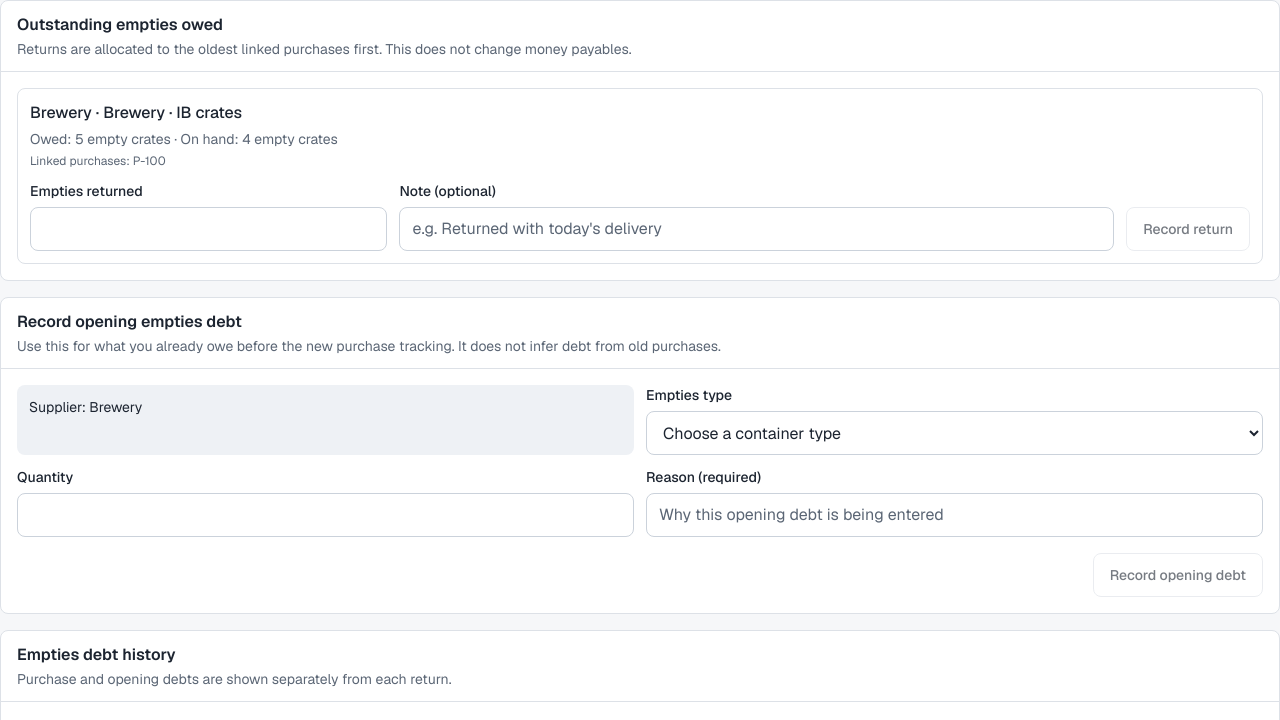
Test: shows a separate supplier empties balance and records a partial return
The width and height of the screenshot is (1280, 720).
Expected: the text "Owed: 5 empty crates · On hand: 4 empty crates" is shown, [30,129,338,149]
In the number field labelled "Empties returned": coordinates (209, 229) [30,207,387,251], type "2"
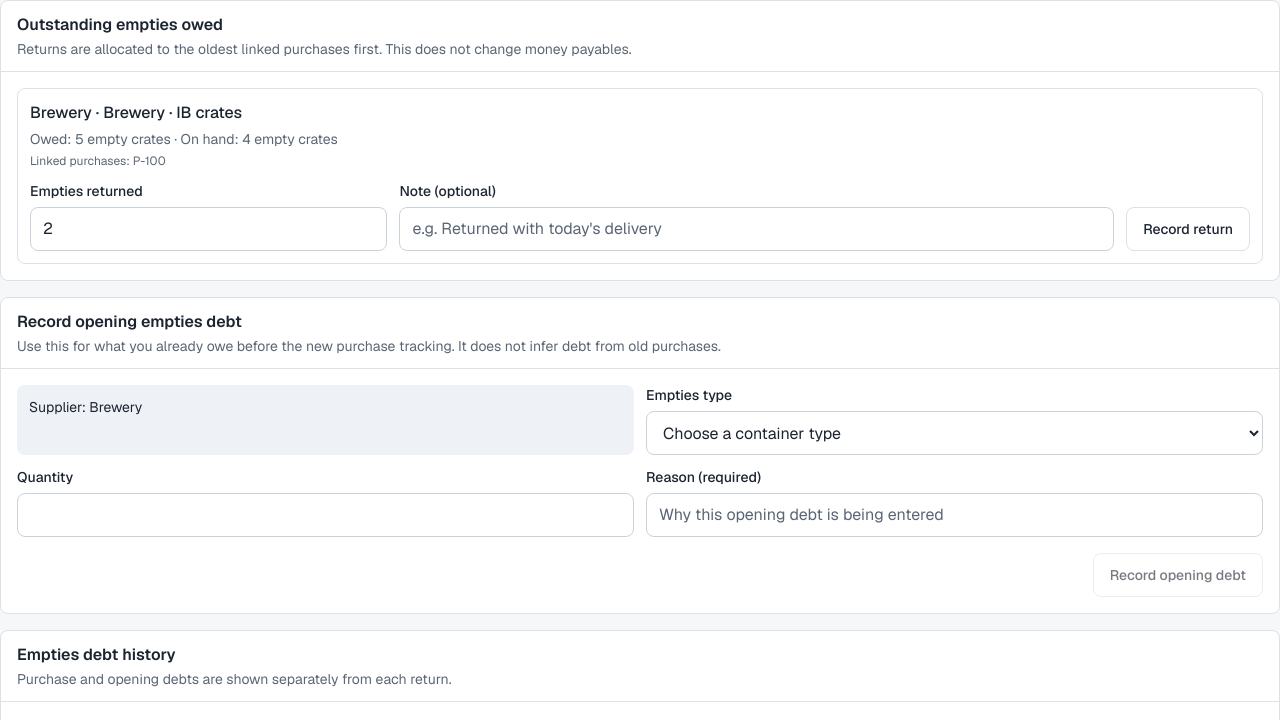
Click the button "Record return": coordinates (1188, 229) [1126,207,1250,251]
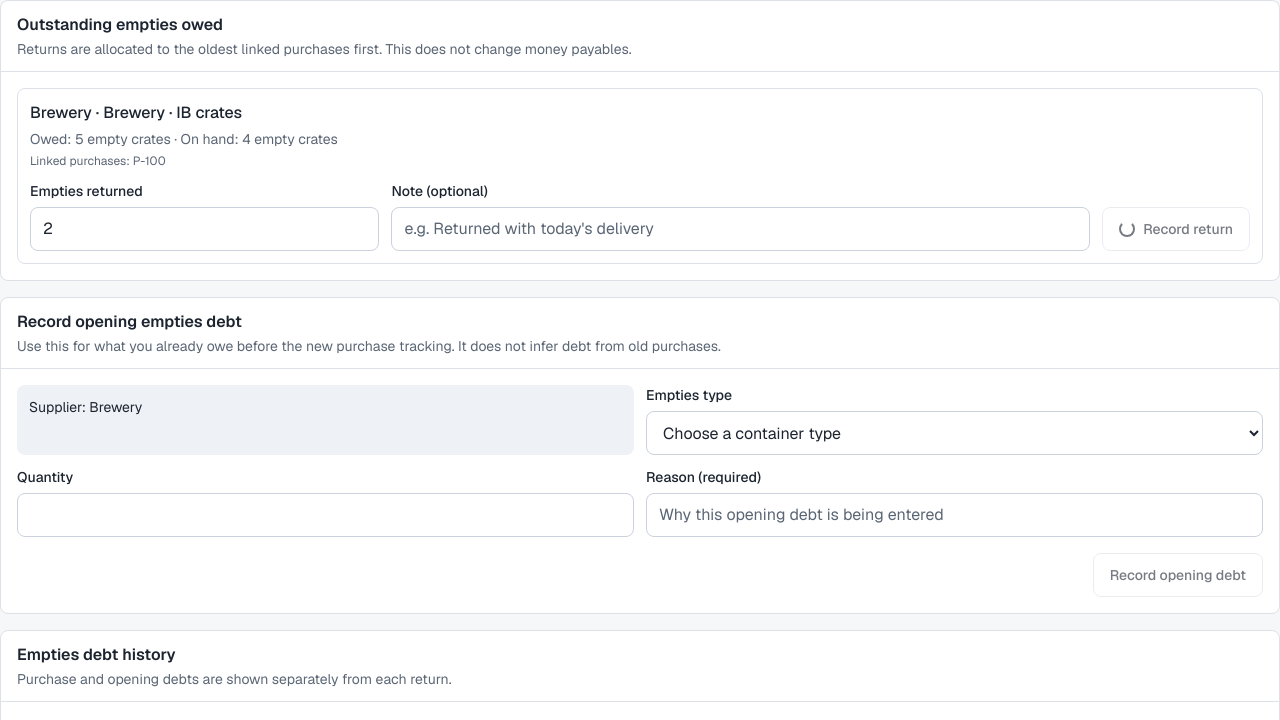
Now the button "Record return" is disabled, box [1102,207,1250,251]
